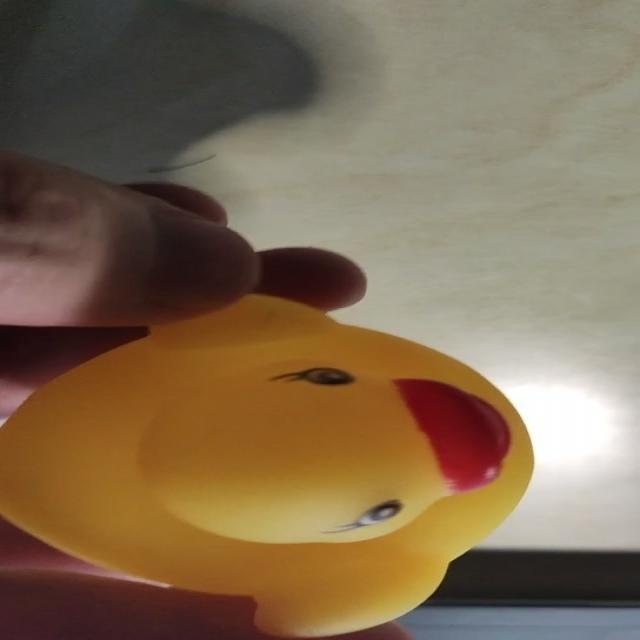rubber-duck: (0, 294, 531, 634)
